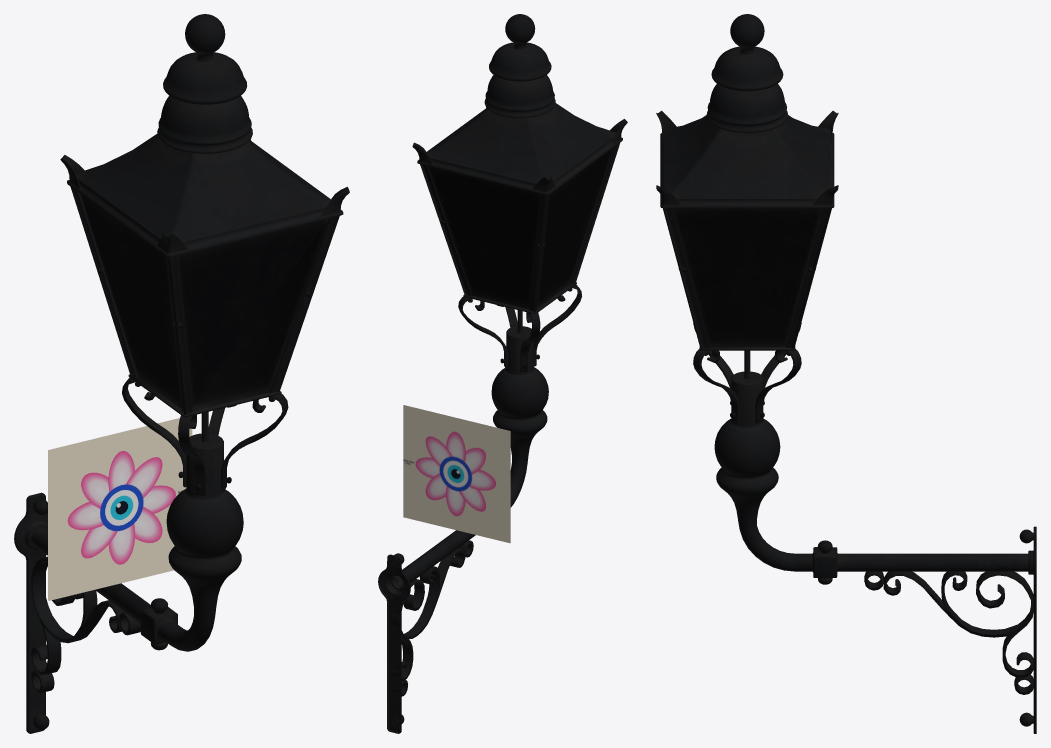
The model's file is nyb_naked_lamp.glb.
The picture shows the model from 3 angles, left to right: view 1: azimuth 30°, elevation 25°; view 2: azimuth 150°, elevation 25°; view 3: azimuth 270°, elevation 25°; orthographic projection. The views are drawn at different scales.
Visible parts, largest first — view 1: street_lamp_02, add_lbl_59f53f8ba1.png; view 2: street_lamp_02, add_lbl_59f53f8ba1.png; view 3: street_lamp_02.
Part boxes in pixels (x1,y1,x2,y2): street_lamp_02: (14, 14, 349, 733); add_lbl_59f53f8ba1.png: (48, 418, 192, 600); street_lamp_02: (378, 14, 627, 733); add_lbl_59f53f8ba1.png: (403, 405, 510, 543); street_lamp_02: (656, 14, 1036, 733).
Size of the model in its own units: 0.3867 by 1.67 by 0.8069.
4 materials, 4 textured.
